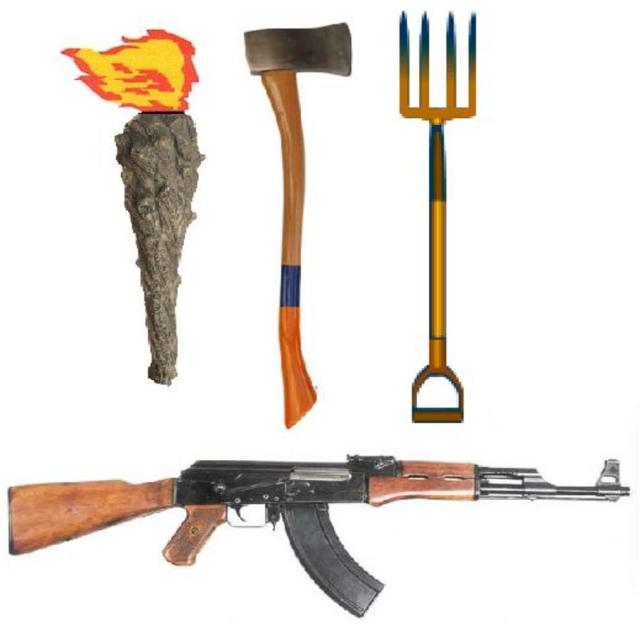Axe: (245, 24, 351, 427)
Gun: (9, 455, 629, 614)
